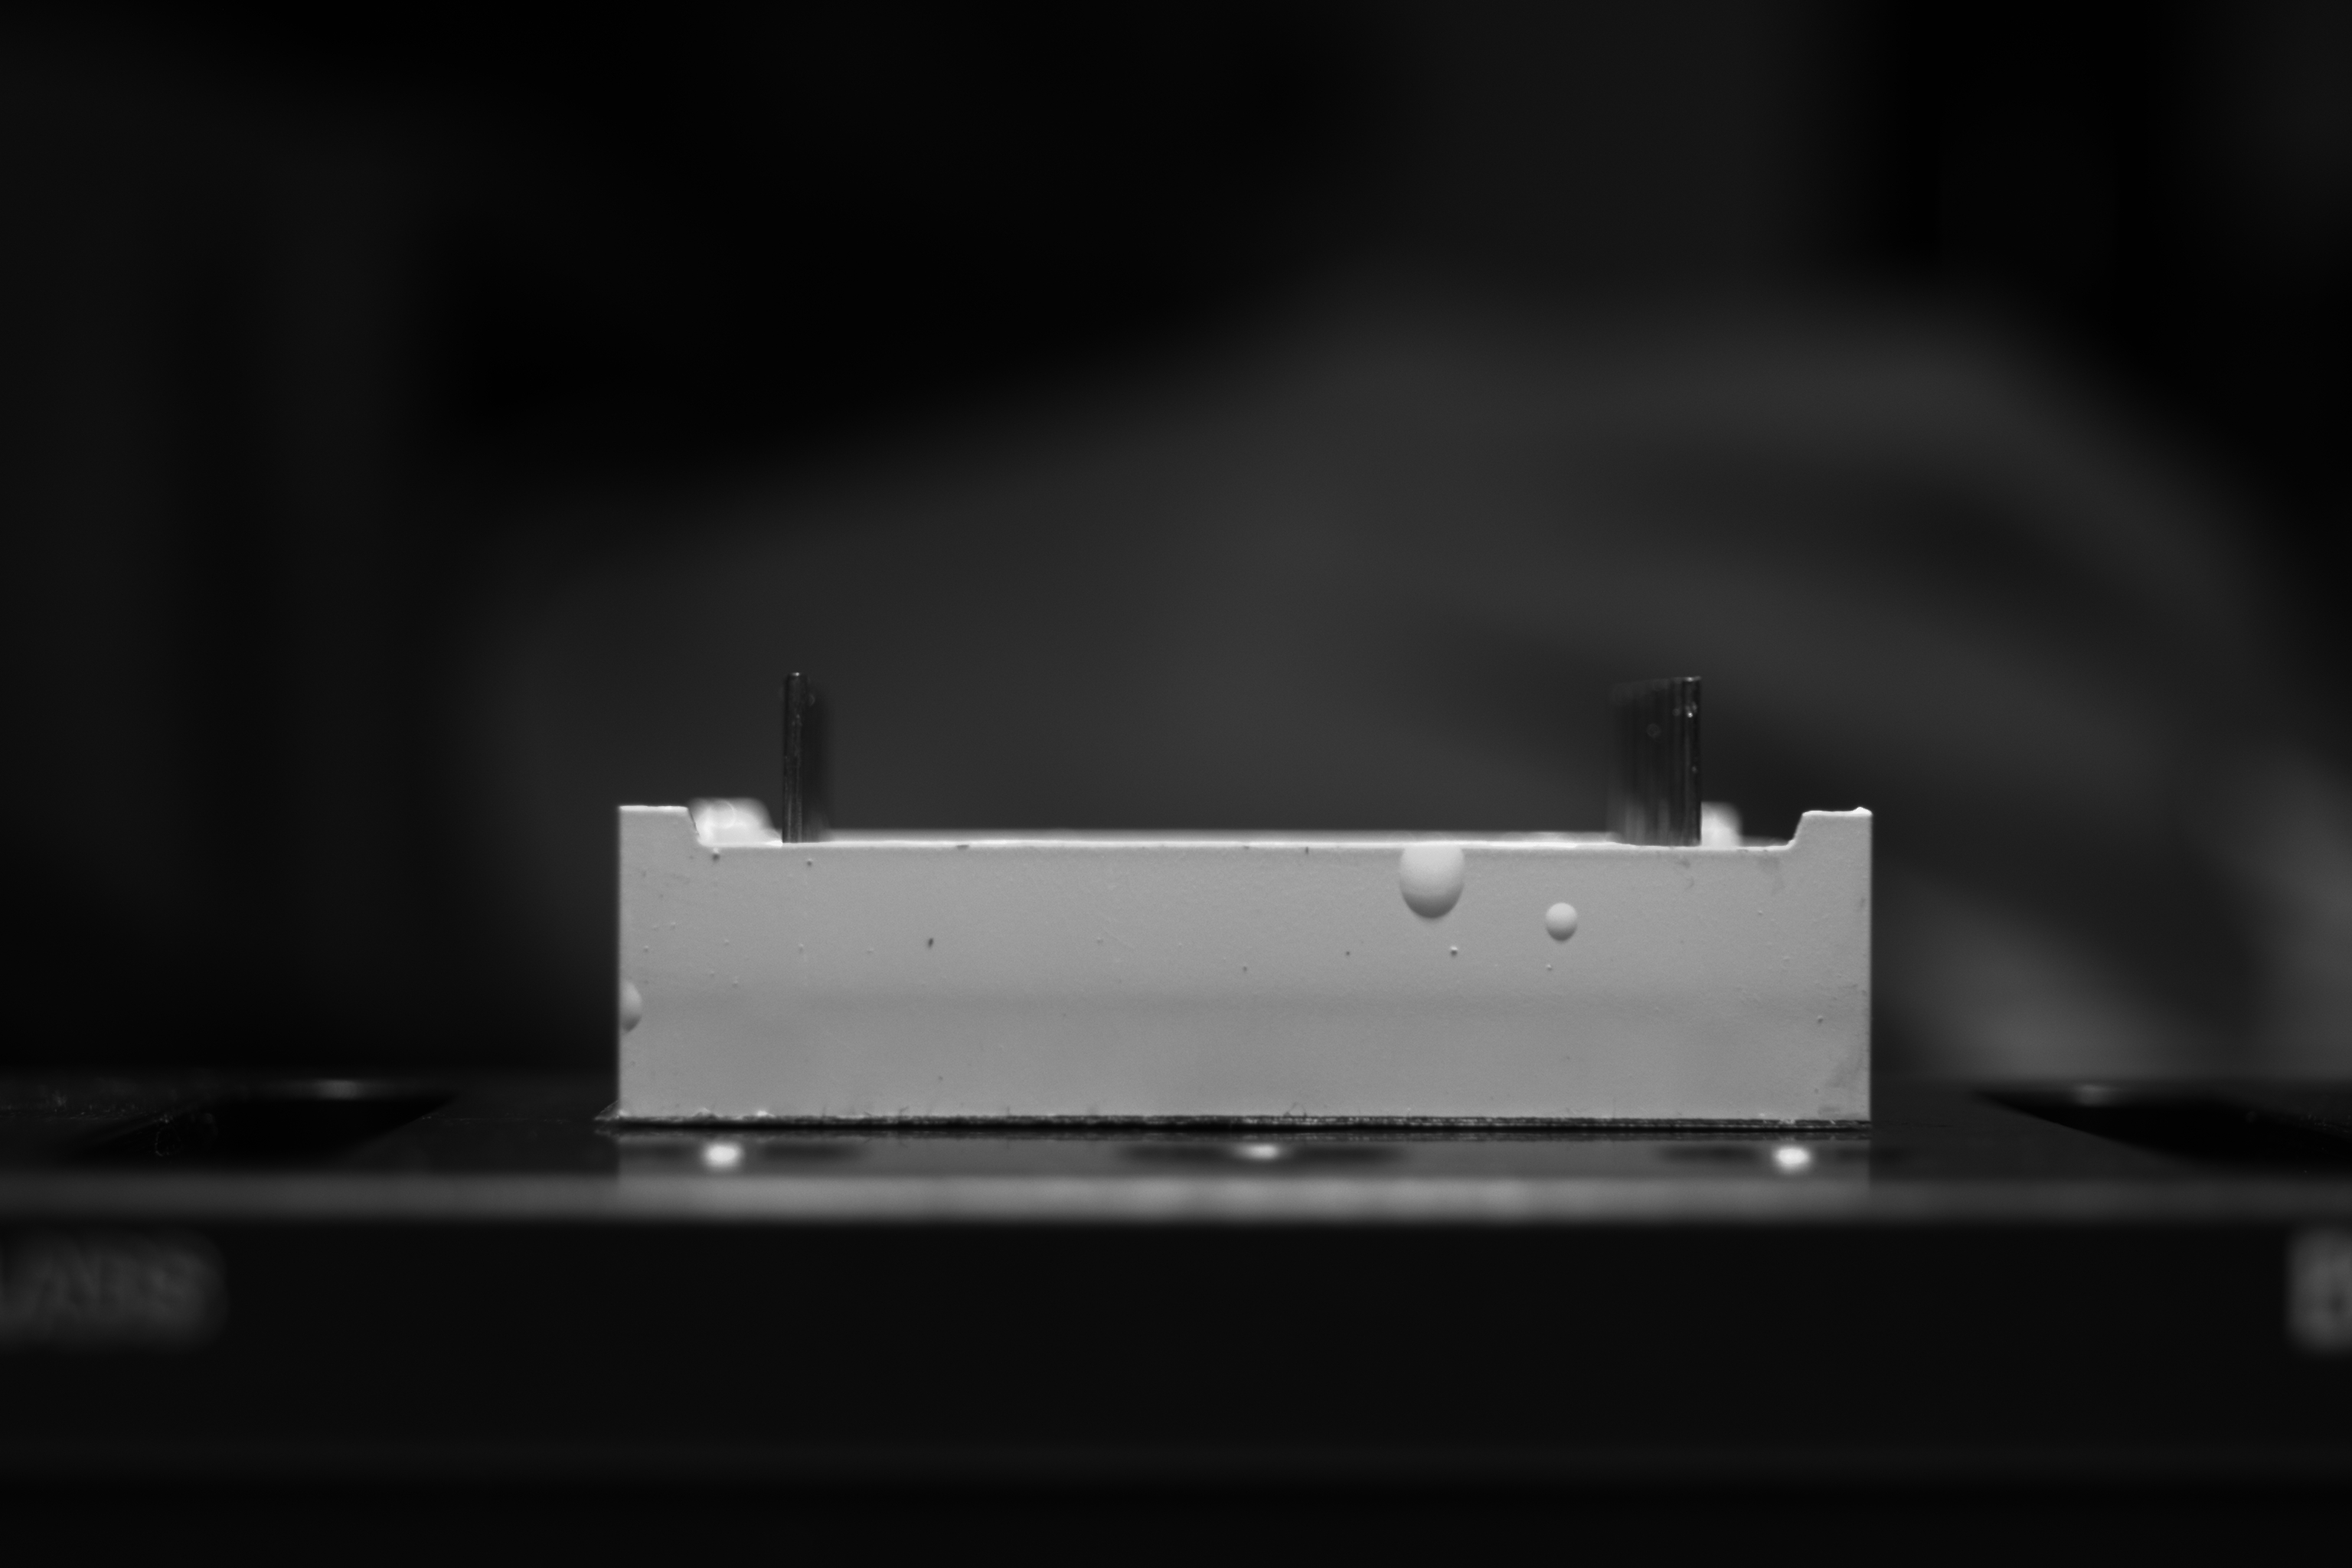glue: (1396, 845, 1472, 924), (618, 969, 656, 1041), (1543, 898, 1582, 947), (1445, 941, 1463, 962), (1542, 959, 1556, 975)
